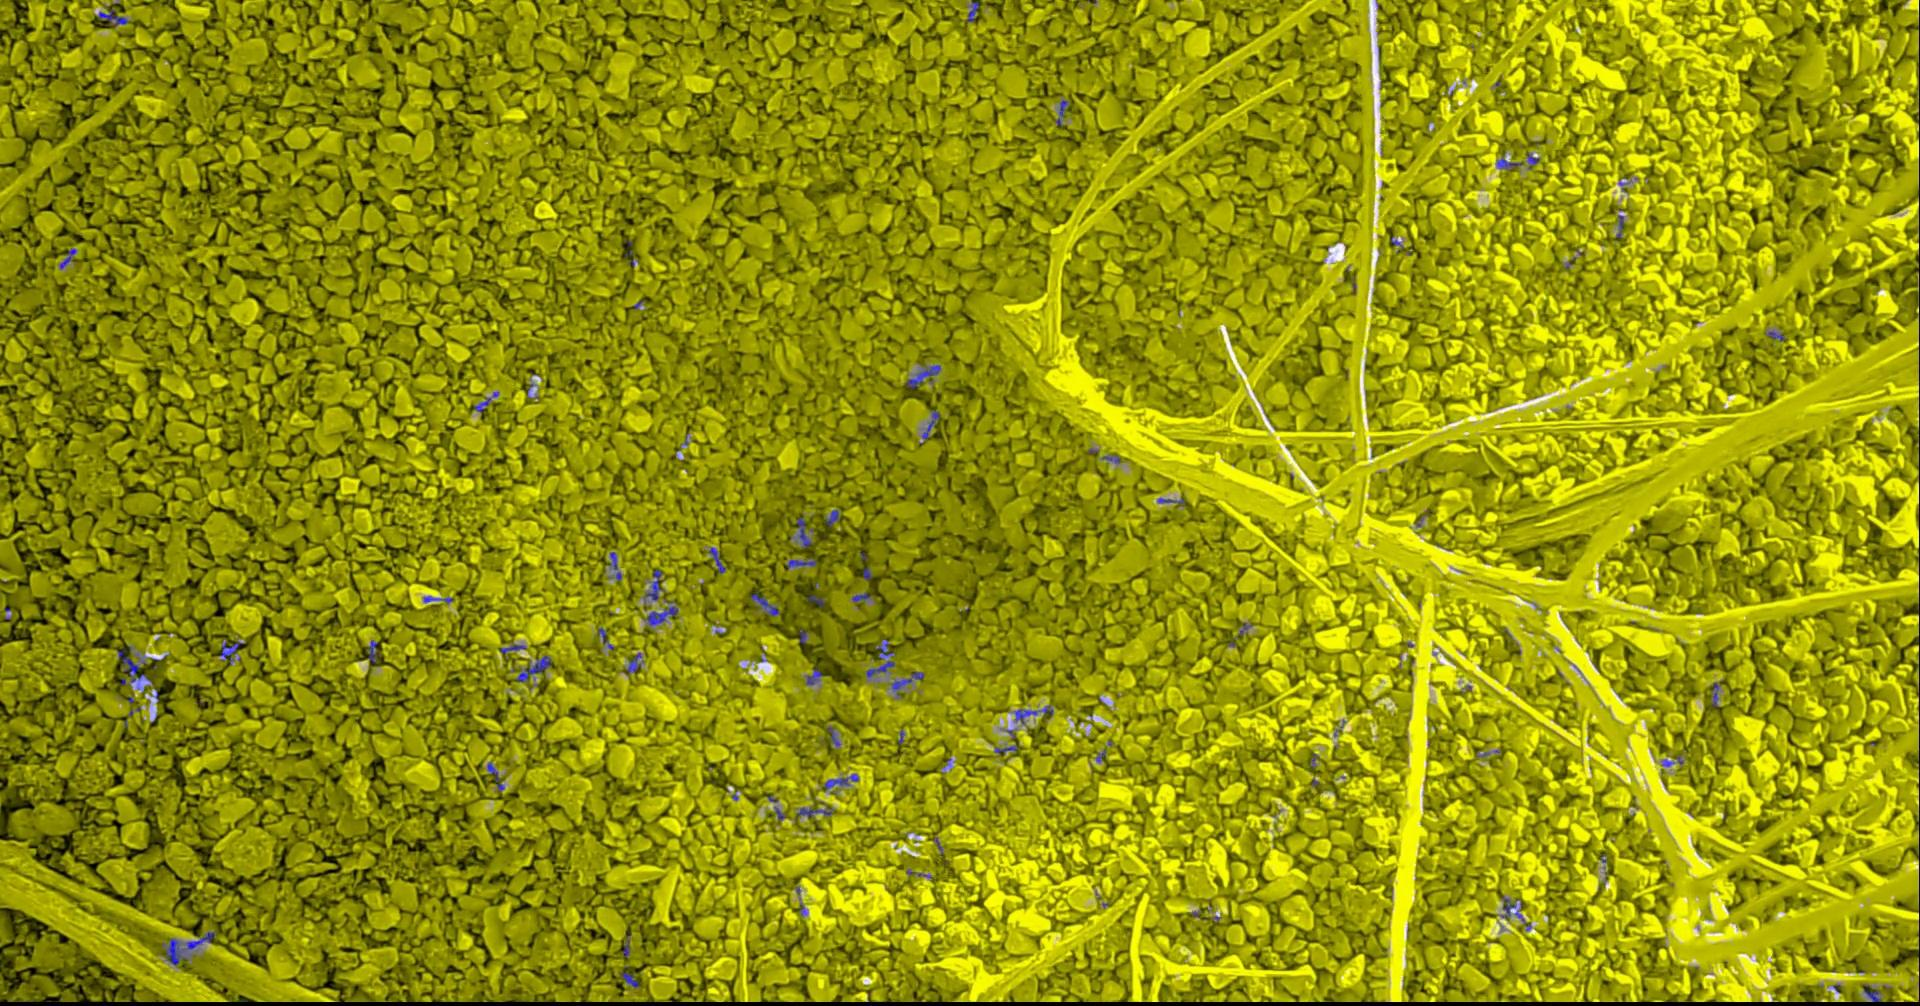ant: (165, 931, 215, 965), (865, 638, 894, 677), (117, 650, 149, 682), (516, 655, 551, 681), (890, 671, 924, 695), (905, 365, 940, 387), (645, 601, 677, 625), (643, 569, 664, 600), (1015, 705, 1051, 723), (218, 640, 244, 664), (750, 593, 778, 615), (98, 8, 128, 25), (824, 774, 858, 789), (921, 410, 938, 439), (796, 517, 811, 547), (488, 762, 504, 790), (767, 795, 785, 821), (709, 547, 725, 573), (1496, 155, 1523, 170), (58, 248, 76, 269), (796, 807, 833, 817), (597, 627, 613, 649), (621, 967, 637, 987), (610, 551, 621, 580), (786, 558, 815, 569), (626, 652, 641, 673), (1862, 984, 1881, 1001), (968, 0, 982, 22), (1501, 895, 1515, 917), (1055, 99, 1067, 124), (367, 639, 378, 663), (472, 398, 490, 412), (806, 668, 822, 683), (825, 509, 839, 526), (499, 644, 524, 653), (423, 594, 452, 602), (808, 594, 823, 607), (1710, 682, 1718, 706), (994, 746, 1017, 753)
